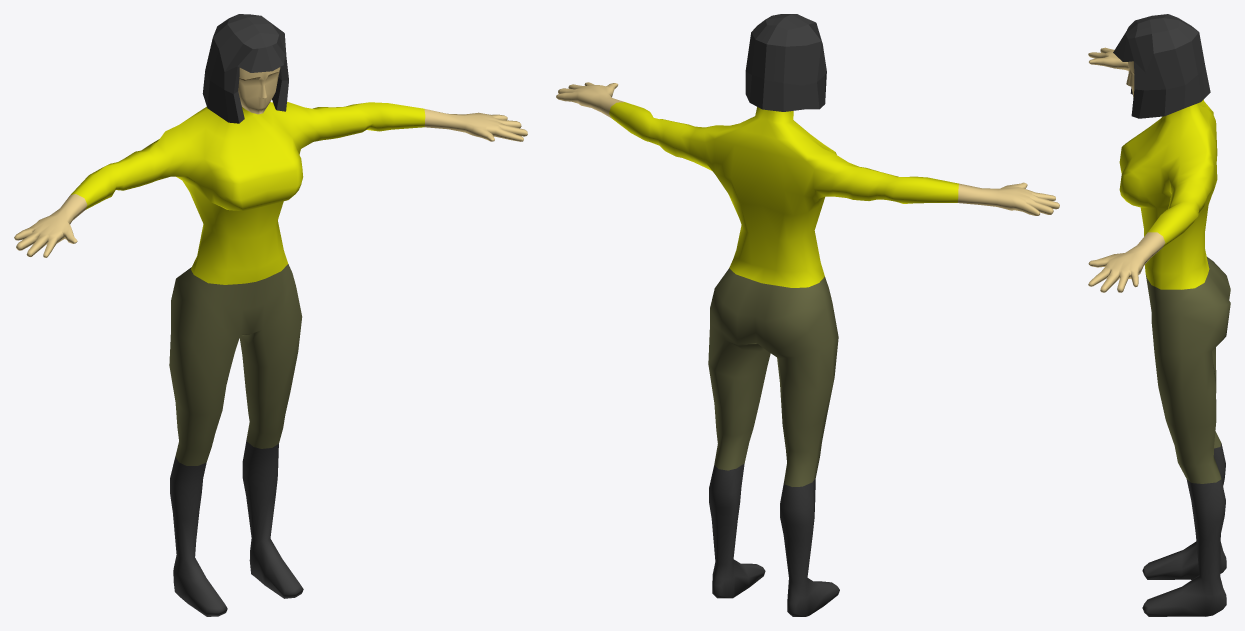
File: Witly.fbx
The picture shows the model from 3 angles, left to right: view 1: azimuth 30°, elevation 25°; view 2: azimuth 150°, elevation 25°; view 3: azimuth 270°, elevation 25°; orthographic projection.
Parts seen in each view (by area): view 1: Witly; view 2: Witly; view 3: Witly.
Part boxes in pixels (left/top/right/bottom): Witly: left=14, top=14, right=527, bottom=616; Witly: left=556, top=14, right=1059, bottom=616; Witly: left=1088, top=14, right=1230, bottom=616.
Bounding box in the file's own units: 165 × 182 × 40.89.
